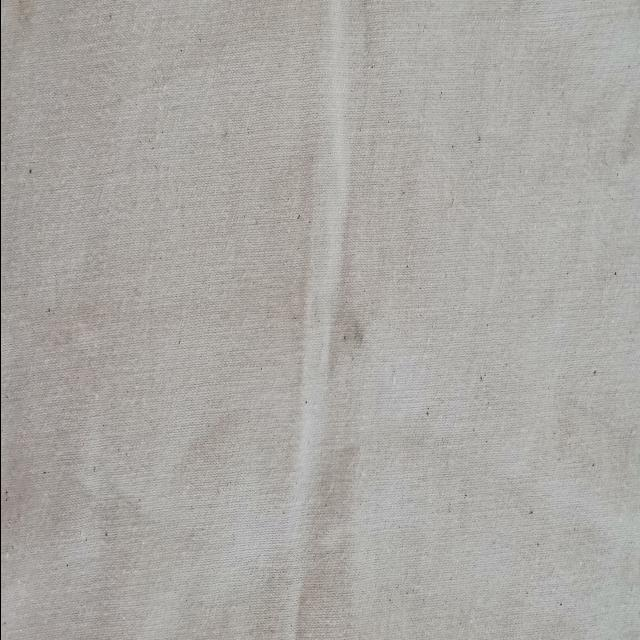taaaches: (311, 276, 375, 379)
